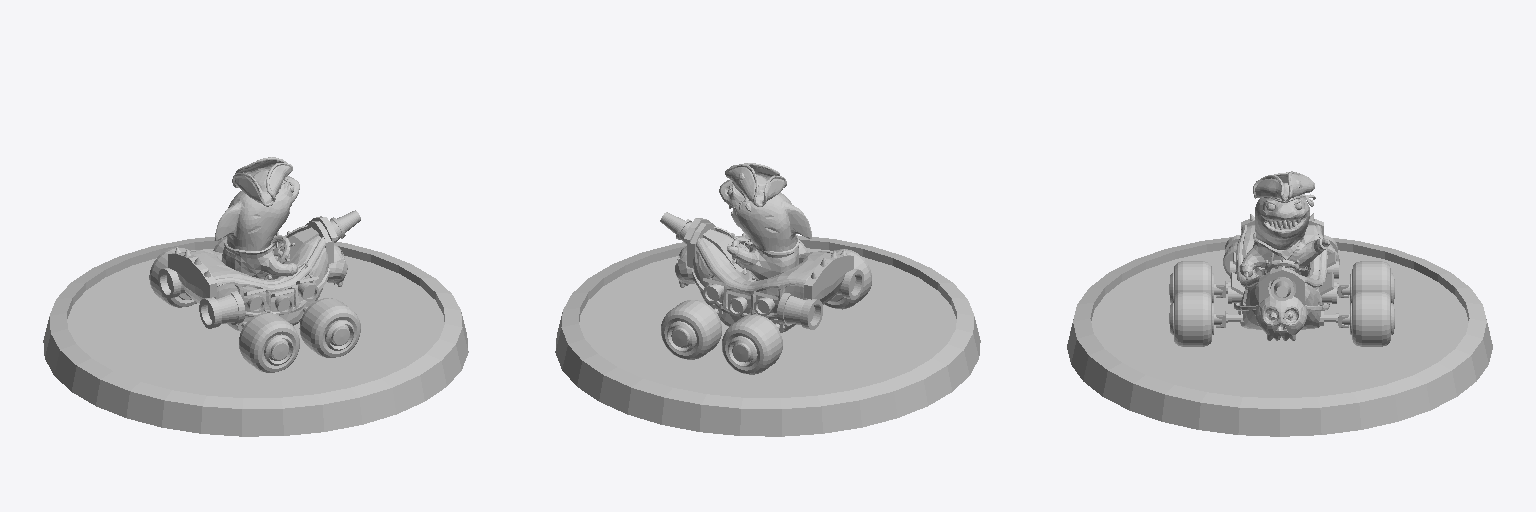
The model's file is selectionsharky_000024.obj.
3 renders of one model, left to right at view 1: azimuth 30°, elevation 25°; view 2: azimuth 150°, elevation 25°; view 3: azimuth 270°, elevation 25°, orthographic.
Parts seen in each view (by area): view 1: platform_low_platform_low.001, wheel_low, body_low, ship_low, smotor_low, hat_low, armor_low, cloth_low_Mesh, backwood_low, grontwood_low; view 2: platform_low_platform_low.001, wheel_low, body_low, ship_low, smotor_low, hat_low, armor_low, cloth_low_Mesh, backwood_low, grontwood_low; view 3: platform_low_platform_low.001, wheel_low, body_low, ship_low, skull_low, cloth_low_Mesh, hat_low, armor_low, grontwood_low, canyon3_low, supportwheel2_low, mast_low.
Boxes of the visible parts, box(x1,y1,x2,y2) form: platform_low_platform_low.001: box(43, 235, 468, 436); wheel_low: box(149, 236, 360, 372); body_low: box(215, 176, 299, 250); ship_low: box(177, 231, 328, 330); smotor_low: box(158, 268, 245, 328); hat_low: box(232, 157, 292, 206); armor_low: box(189, 225, 329, 316); cloth_low_Mesh: box(222, 239, 292, 279); backwood_low: box(168, 252, 216, 297); grontwood_low: box(305, 216, 337, 263); platform_low_platform_low.001: box(555, 235, 980, 436); wheel_low: box(661, 241, 871, 374); body_low: box(719, 180, 811, 251); ship_low: box(693, 231, 845, 332); smotor_low: box(777, 269, 863, 329); hat_low: box(725, 163, 786, 206); armor_low: box(692, 227, 838, 318); cloth_low_Mesh: box(732, 235, 799, 280); backwood_low: box(804, 254, 853, 299); grontwood_low: box(684, 218, 715, 267); platform_low_platform_low.001: box(1067, 237, 1492, 436); wheel_low: box(1169, 261, 1394, 346); body_low: box(1255, 198, 1309, 249); ship_low: box(1238, 225, 1323, 329); skull_low: box(1255, 296, 1307, 340); cloth_low_Mesh: box(1240, 232, 1328, 274); hat_low: box(1253, 171, 1314, 201); armor_low: box(1234, 225, 1329, 310); grontwood_low: box(1259, 267, 1304, 305); canyon3_low: box(1228, 278, 1336, 303); supportwheel2_low: box(1216, 280, 1348, 327); mast_low: box(1268, 277, 1295, 300).
Bounding box in the file's own units: 13.87 × 6.52 × 13.87.